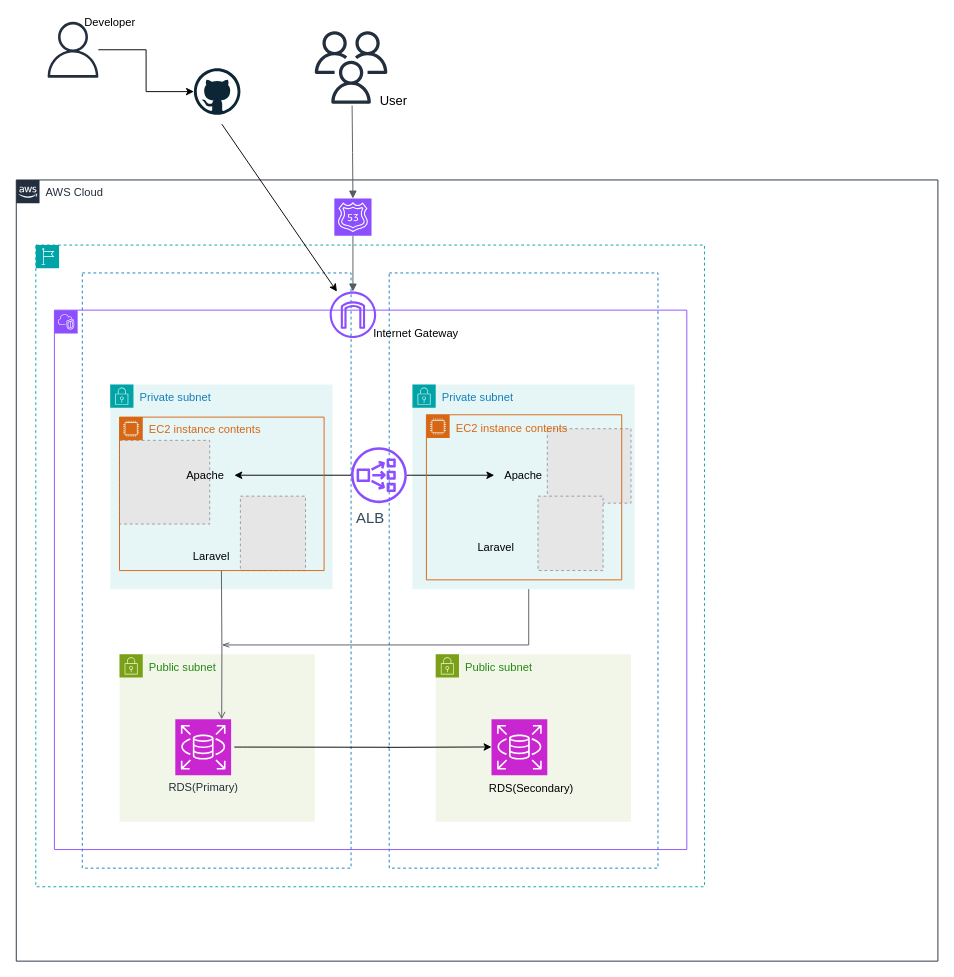
This 954x977 diagram has some shape labels left out. Grey dashed boxes stand in for pictures. Each missing label, with the box of its shape:
Availability Zone a: (81, 272, 351, 868)
Availability Zone b: (388, 272, 658, 868)
Region(Tokyo): (35, 244, 704, 887)
VPC: (53, 309, 687, 850)
